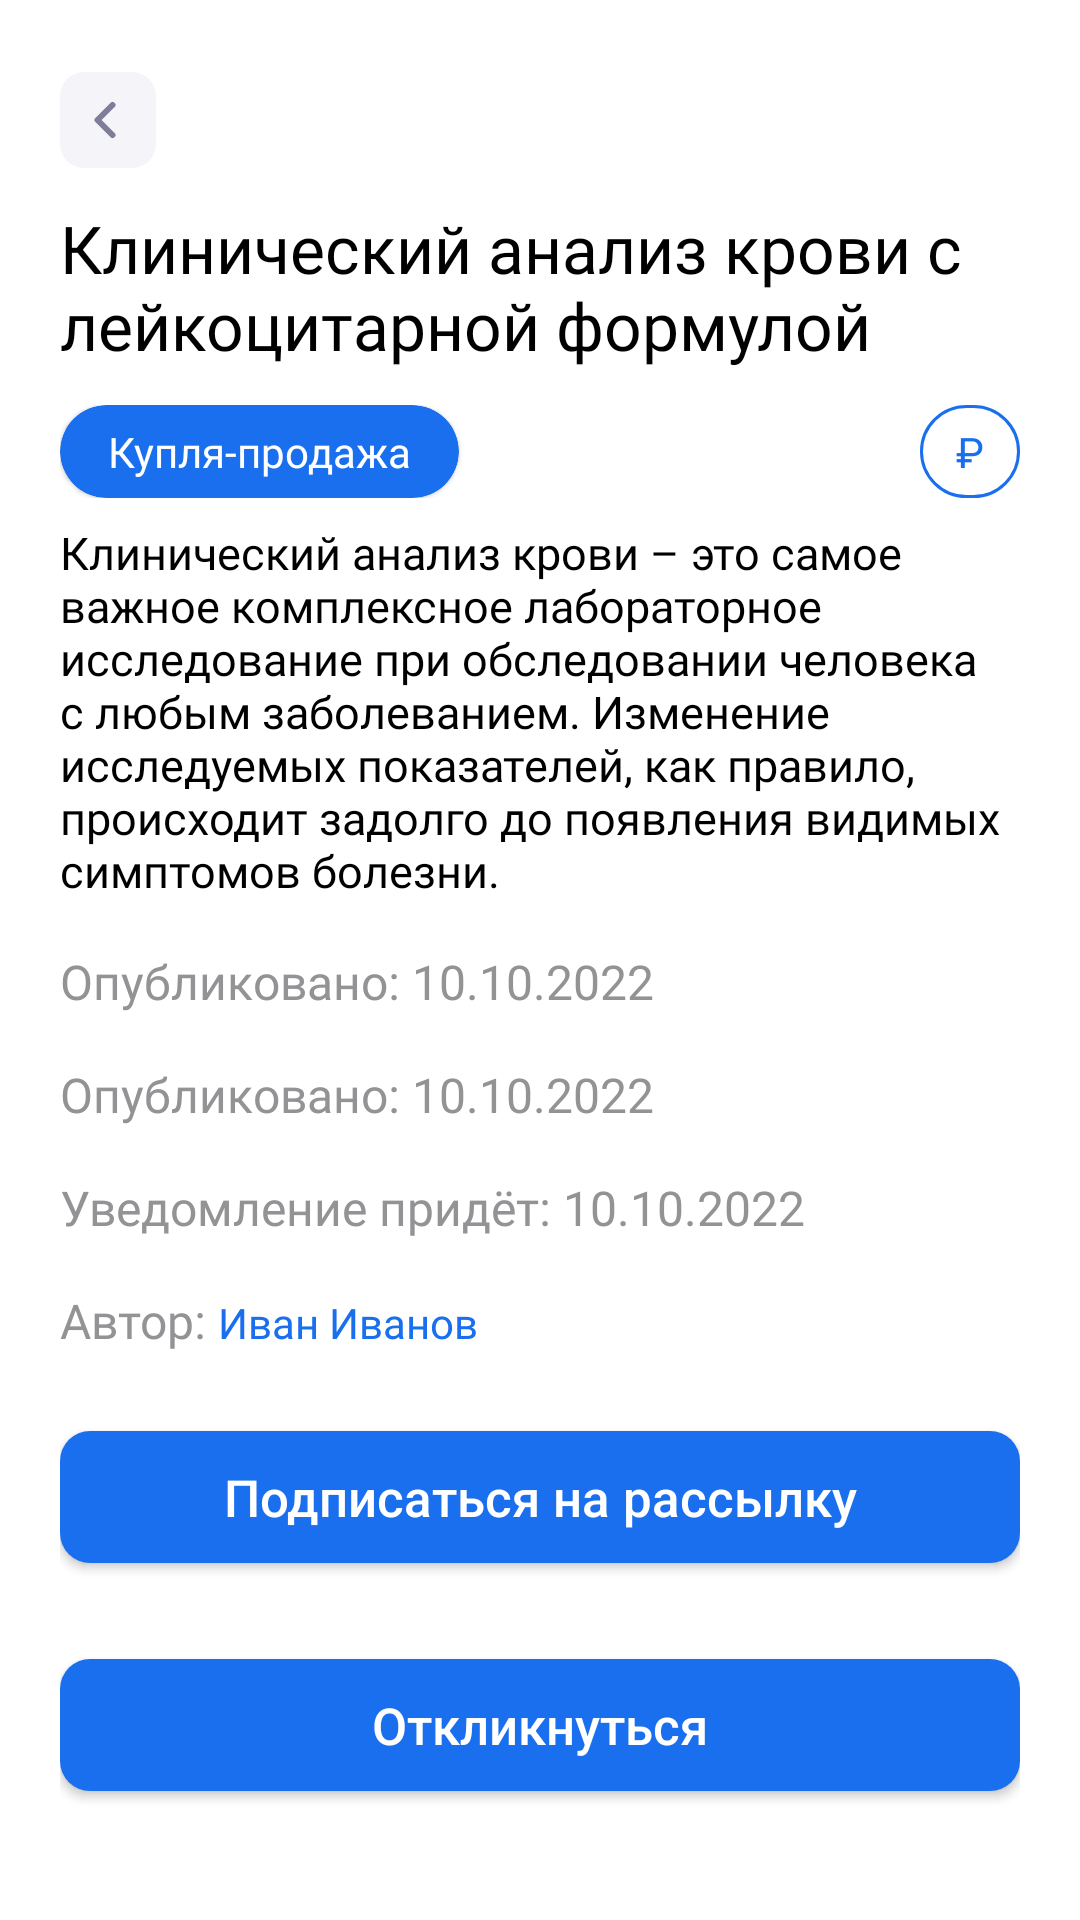

Where icons sit on this 1080w x 1920h app screen, as detection(x1, y1, x2, y2):
back: detection(60, 72, 156, 168)
